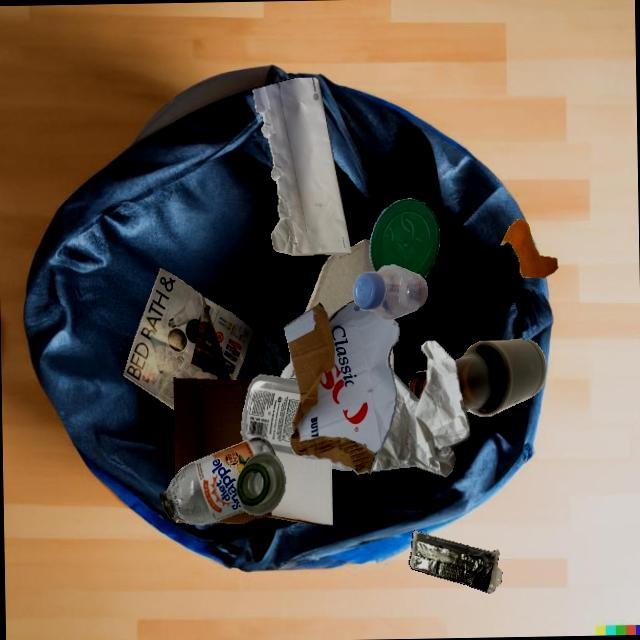biowaste: (500, 218, 557, 277)
cardboard: (283, 300, 399, 474), (291, 240, 392, 360), (212, 451, 332, 525), (173, 377, 252, 476)
glass: (159, 436, 276, 525), (454, 339, 546, 416), (236, 451, 285, 515)
paper: (123, 267, 253, 409), (252, 77, 351, 255), (280, 377, 396, 467), (371, 393, 469, 476)
plastic: (408, 529, 502, 593), (369, 198, 439, 277), (241, 374, 299, 455), (353, 264, 428, 319)
